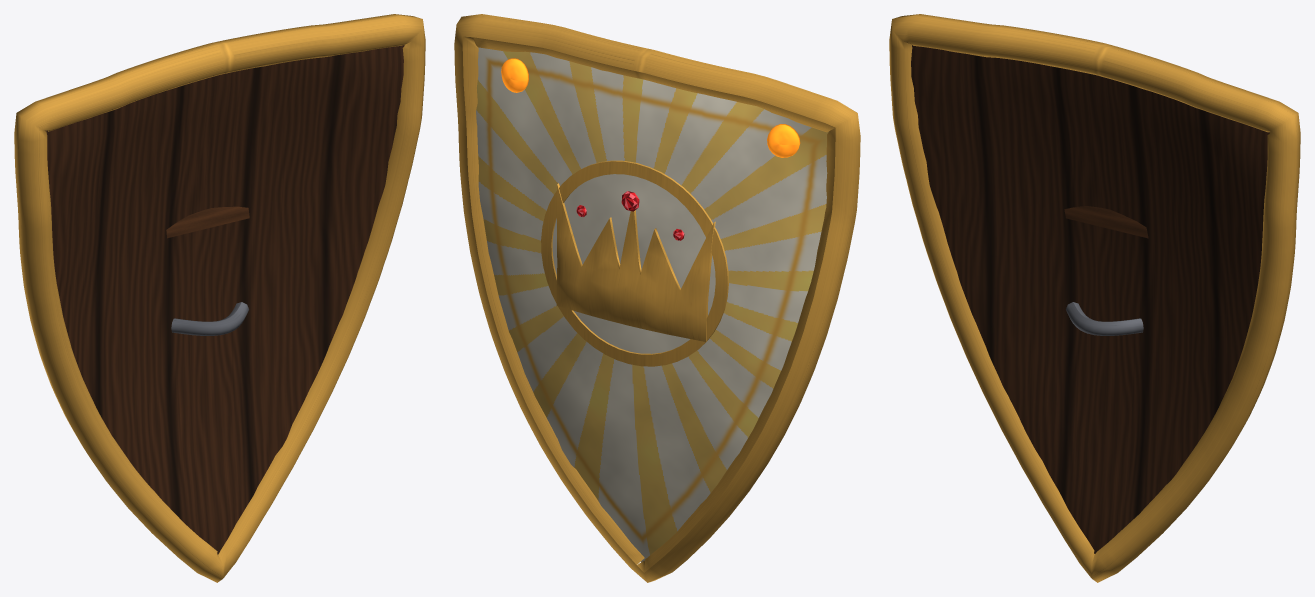
Rendered from SunwardRoyalShield.glb.
3 views of the same model, side by side, from view 1: azimuth 30°, elevation 25°; view 2: azimuth 150°, elevation 25°; view 3: azimuth 330°, elevation 25° (orthographic).
Parts seen in each view (by area): view 1: SunwardRoyalShield; view 2: SunwardRoyalShield; view 3: SunwardRoyalShield.
Boxes of the visible parts, x1,y1,x2,y2 form: SunwardRoyalShield: (14,14,425,582); SunwardRoyalShield: (454,14,860,582); SunwardRoyalShield: (889,14,1300,582).
Size of the model in its own units: 2.15 by 2.72 by 0.3705.
1 material, 1 textured.
